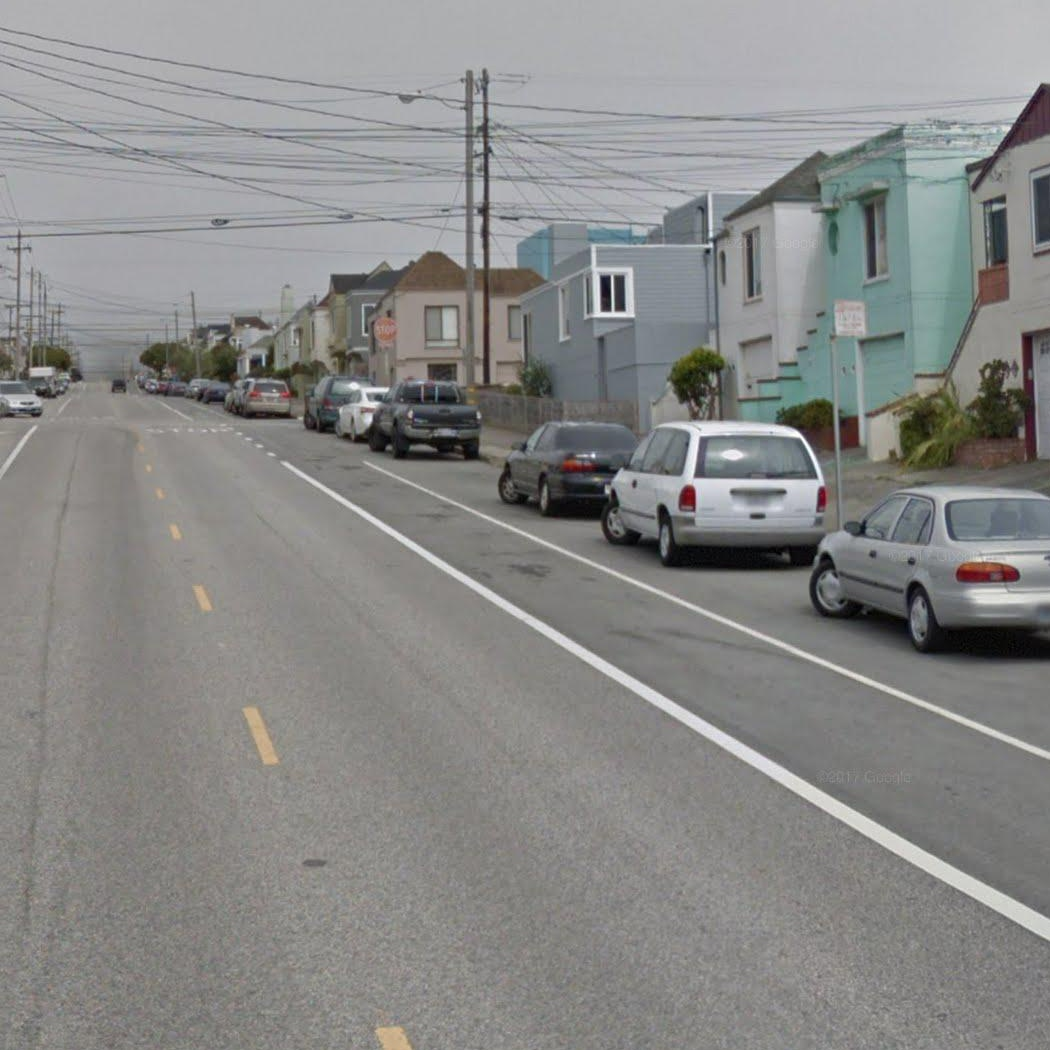No Parking: (832, 298, 866, 338)
